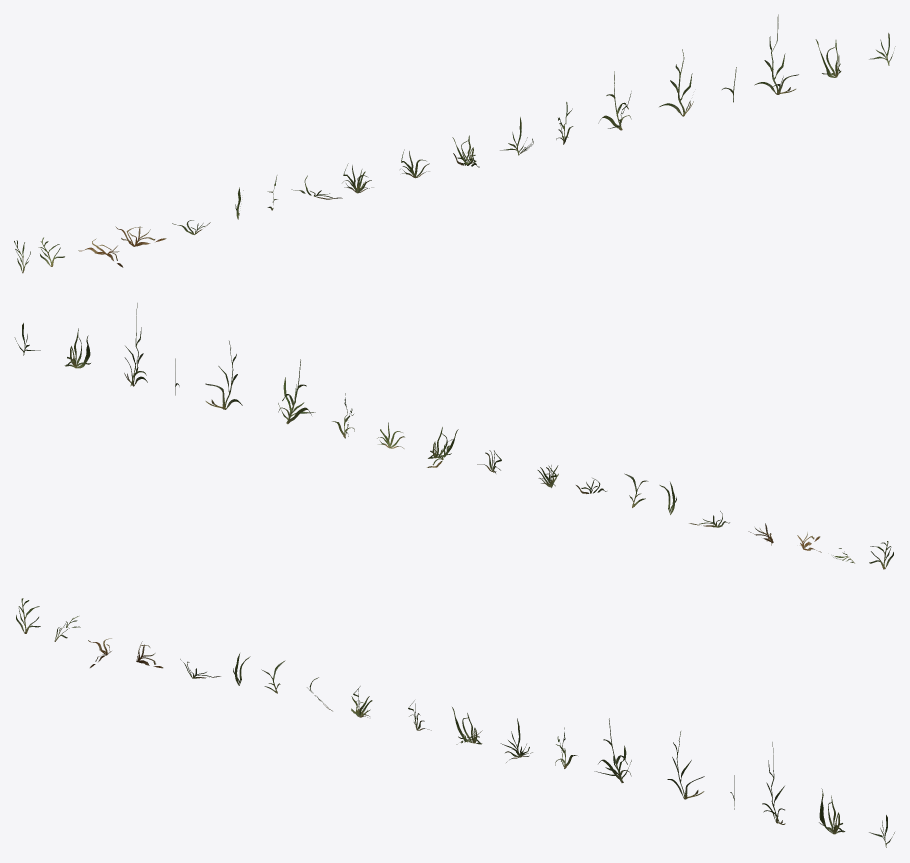
Rendered from grass_bermuda_01.glb.
3 views of the same model, one above another, from view 1: azimuth 30°, elevation 25°; view 2: azimuth 150°, elevation 25°; view 3: azimuth 330°, elevation 25° (orthographic).
Visible parts, largest first — view 1: grass_bermuda_01_dead_a; view 2: grass_bermuda_01_dead_a; view 3: grass_bermuda_01_dead_a.
Boxes of the visible parts, bbox=[...] form: grass_bermuda_01_dead_a: bbox=[14, 14, 895, 273]; grass_bermuda_01_dead_a: bbox=[14, 303, 893, 569]; grass_bermuda_01_dead_a: bbox=[16, 598, 894, 847].
Size of the model in its own units: 1.61 by 0.1513 by 0.1138.
1 material, 1 textured.
